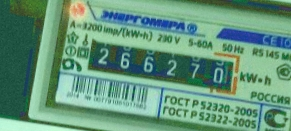0: (210, 63, 224, 85)
2: (95, 44, 112, 66), (164, 56, 179, 78)
6: (117, 49, 132, 71), (141, 53, 156, 73)
7: (187, 60, 201, 80)
screen: (72, 24, 252, 105)
